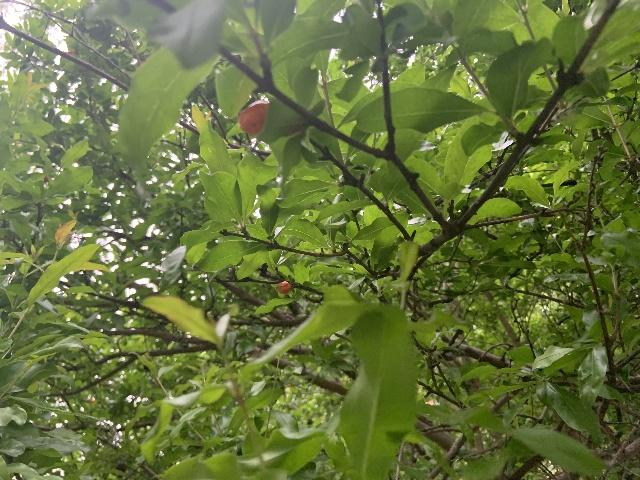bud: (238, 100, 269, 136), (276, 281, 291, 294)
